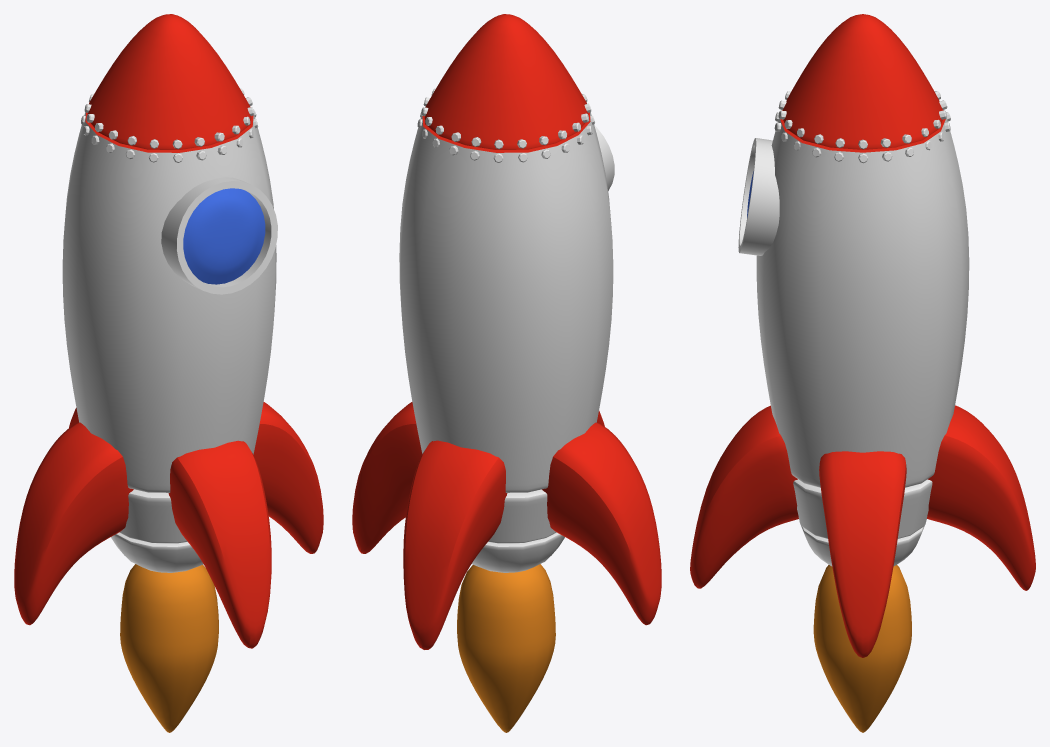
File: Rocket.fbx
3 views of the same model, side by side, from view 1: azimuth 30°, elevation 25°; view 2: azimuth 150°, elevation 25°; view 3: azimuth 270°, elevation 25° (orthographic).
Visible parts, largest first — view 1: body, air, red, fire, glass, glass background, steel; view 2: body, air, red, fire, steel, glass background; view 3: body, air, red, fire, glass background, steel.
Part boxes in pixels (x1,y1,x2,y2): body: (62, 112, 276, 572); air: (14, 402, 323, 648); red: (85, 14, 253, 152); fire: (120, 564, 218, 732); glass: (183, 188, 265, 284); glass background: (161, 177, 277, 294); steel: (81, 88, 258, 162); body: (399, 112, 613, 572); air: (352, 402, 661, 649); red: (422, 14, 590, 152); fire: (457, 564, 555, 732); steel: (417, 88, 594, 162); glass background: (594, 125, 614, 190); body: (756, 118, 969, 566); air: (690, 405, 1035, 657); red: (780, 14, 945, 152); fire: (813, 565, 911, 732); glass background: (738, 138, 779, 255); steel: (774, 91, 950, 163).
Bounding box in the file's own units: 178 × 408 × 178.
